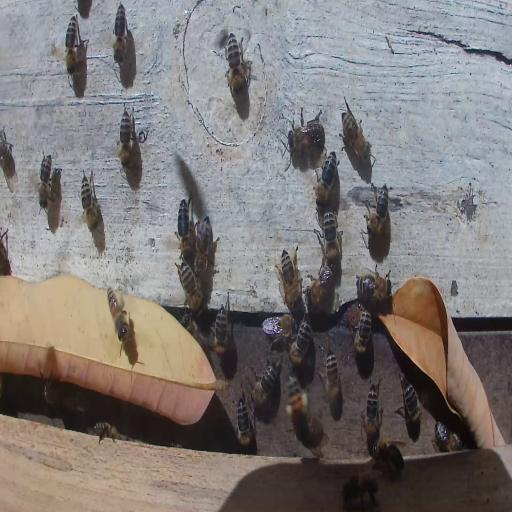bee: (178, 313, 214, 371), (106, 282, 132, 346), (341, 107, 370, 164), (286, 372, 310, 440), (306, 260, 338, 310), (278, 247, 302, 309), (194, 216, 218, 276), (224, 37, 248, 96), (176, 262, 204, 312), (398, 380, 422, 438), (364, 183, 390, 236), (286, 119, 325, 154), (320, 348, 342, 410), (372, 438, 404, 480), (343, 473, 378, 511), (314, 150, 337, 206), (363, 381, 381, 447), (80, 171, 98, 233), (36, 149, 54, 211), (357, 269, 390, 302), (319, 210, 341, 258), (235, 395, 254, 450), (250, 365, 276, 405), (289, 318, 312, 362), (352, 304, 372, 354), (1, 124, 16, 190), (118, 107, 133, 168), (262, 313, 294, 341), (433, 424, 463, 453), (113, 3, 127, 64), (212, 304, 228, 352), (65, 14, 77, 76), (92, 420, 121, 442), (178, 199, 190, 243), (178, 232, 194, 260), (1, 229, 10, 272)
